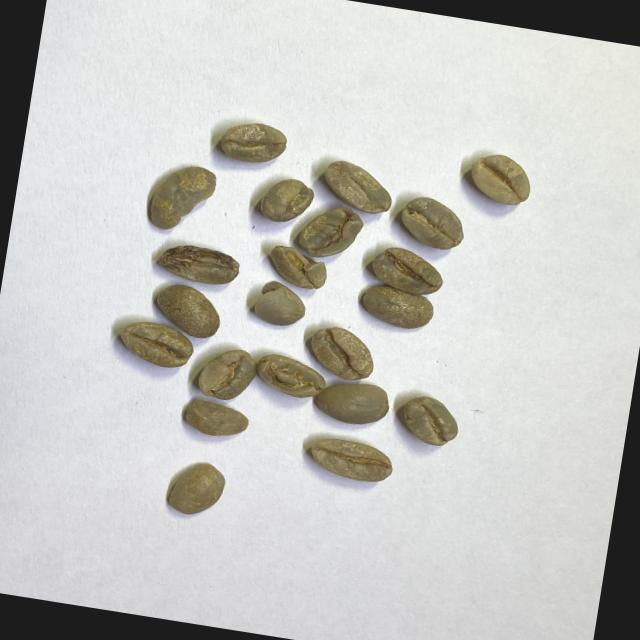bad: (144, 158, 220, 238), (152, 238, 244, 290), (296, 202, 366, 264), (255, 352, 328, 402), (264, 244, 330, 293), (248, 277, 310, 329), (258, 174, 318, 227)
good: (301, 431, 398, 488), (149, 279, 227, 342), (316, 157, 398, 216), (353, 278, 438, 333), (394, 193, 470, 254), (306, 323, 380, 384), (163, 456, 230, 522), (212, 116, 292, 171), (368, 243, 448, 298), (118, 319, 197, 372), (196, 343, 260, 408), (312, 376, 392, 428), (396, 392, 464, 451), (467, 150, 536, 208), (180, 397, 252, 443)
